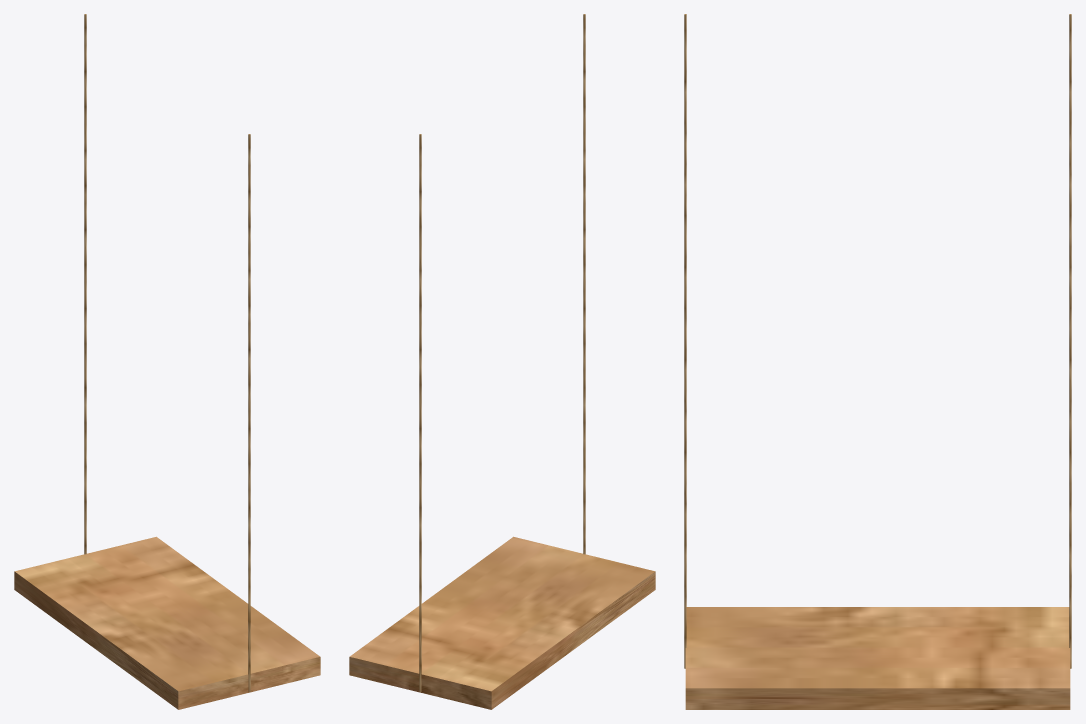
File: Columpio.obj
The picture shows the model from 3 angles, left to right: view 1: azimuth 30°, elevation 25°; view 2: azimuth 150°, elevation 25°; view 3: azimuth 270°, elevation 25°; orthographic projection. The views are drawn at different scales.
Visible parts, largest first — view 1: Cubo; view 2: Cubo; view 3: Cubo.
Boxes of the visible parts, x1,y1,x2,y2 form: Cubo: (14,14,320,709); Cubo: (349,14,655,709); Cubo: (684,14,1071,709).
Size of the model in its own units: 1.6 by 6.01 by 3.22.
